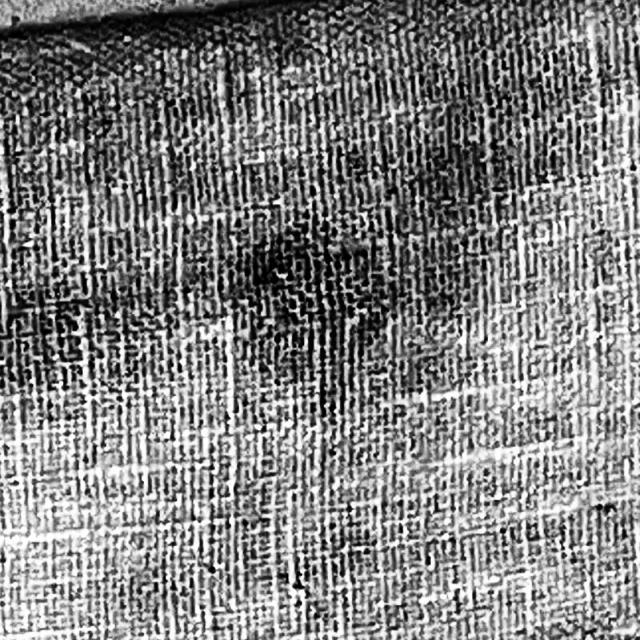Color_defect: (220, 200, 407, 428)
